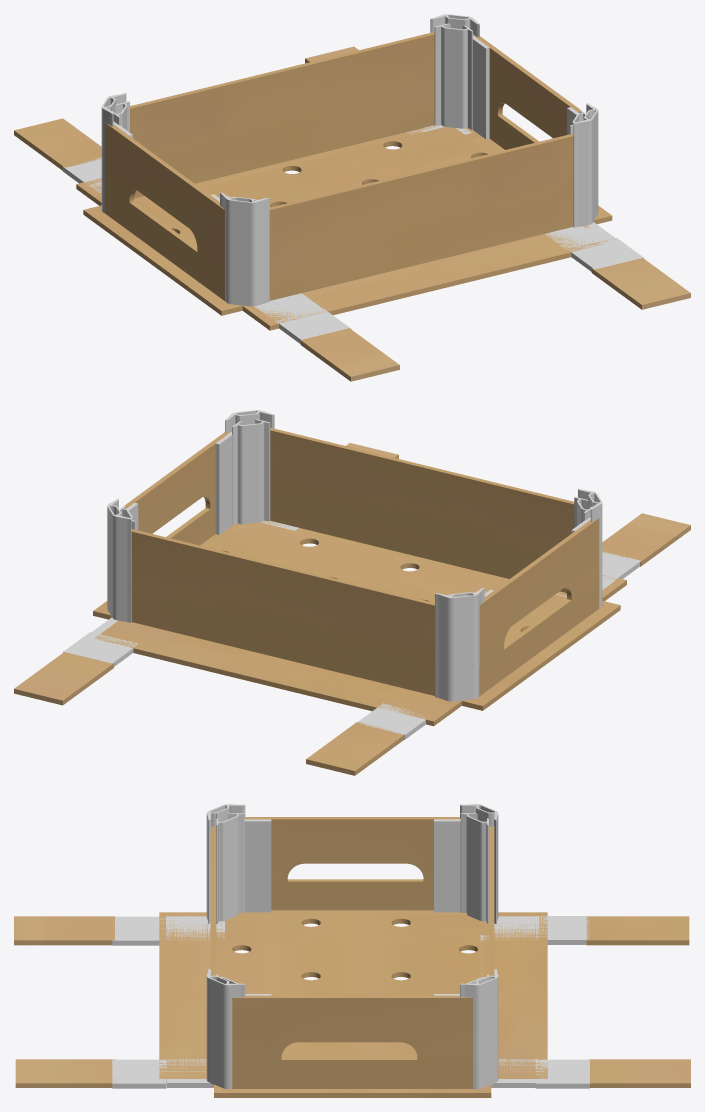
File: theXerouliaTripes66.dae
3 renders of one model, top to bottom at view 1: azimuth 30°, elevation 25°; view 2: azimuth 150°, elevation 25°; view 3: azimuth 270°, elevation 25°, orthographic.
Parts seen in each view (by area): view 1: Cu, Cu_001, vasitripes, mpakalos5, pleuresmikresxeroulia_001, mpakalos31, Plane_003, Plane_001, pleuresmikresxeroulia, mpakalos3, pleuresmikresxeria, mpakalos2 (+7 smaller); view 2: Cu_001, Cu, mpakalos5, vasitripes, pleuresmikresxeroulia_001, mpakalos31, Plane_002, Plane_004, pleuresmikresxeroulia, mpakalos3, pleuresmikresxeria, mpakalos2 (+6 smaller); view 3: vasitripes, mpakalos5, pleuresmikresxeroulia, pleuresmikresxeroulia_001, pleuresmikresxeria_001, mpakalos31, mpakalos2, mpakalos3, pleuresmikresxeria, Plane_003, Plane_002, mpakalos (+8 smaller).
Boxes of the visible parts, x1,y1,x2,y2 form: Cu: (269, 133, 573, 300); Cu_001: (130, 32, 434, 198); vasitripes: (136, 127, 489, 246); mpakalos5: (76, 125, 607, 330); pleuresmikresxeroulia_001: (105, 123, 224, 271); mpakalos31: (14, 46, 690, 381); Plane_003: (220, 192, 269, 306); Plane_001: (430, 14, 479, 129); pleuresmikresxeroulia: (473, 34, 580, 138); mpakalos3: (38, 138, 666, 363); pleuresmikresxeria: (105, 185, 224, 300); mpakalos2: (63, 157, 643, 343); Cu_001: (131, 529, 434, 695); Cu: (270, 427, 574, 592); mpakalos5: (95, 520, 626, 726); vasitripes: (215, 522, 566, 644); pleuresmikresxeroulia_001: (479, 518, 599, 666); mpakalos31: (14, 443, 690, 775); Plane_002: (435, 588, 484, 701); Plane_004: (225, 410, 274, 525); pleuresmikresxeroulia: (125, 430, 231, 533); mpakalos3: (41, 530, 666, 755); pleuresmikresxeria: (479, 580, 599, 696); mpakalos2: (63, 551, 640, 739); vasitripes: (225, 915, 480, 1057); mpakalos5: (159, 912, 547, 1083); pleuresmikresxeroulia: (232, 995, 472, 1059); pleuresmikresxeroulia_001: (244, 817, 460, 881); pleuresmikresxeria_001: (232, 1058, 472, 1088); mpakalos31: (14, 916, 690, 1087); mpakalos2: (112, 916, 589, 1088); mpakalos3: (62, 916, 641, 1087); pleuresmikresxeria: (271, 879, 433, 910); Plane_003: (206, 804, 245, 923); Plane_002: (460, 804, 498, 924); mpakalos: (166, 916, 538, 1087).
Size of the model in its own units: 4.24 by 6.35 by 1.13.
2 materials, 1 textured.
